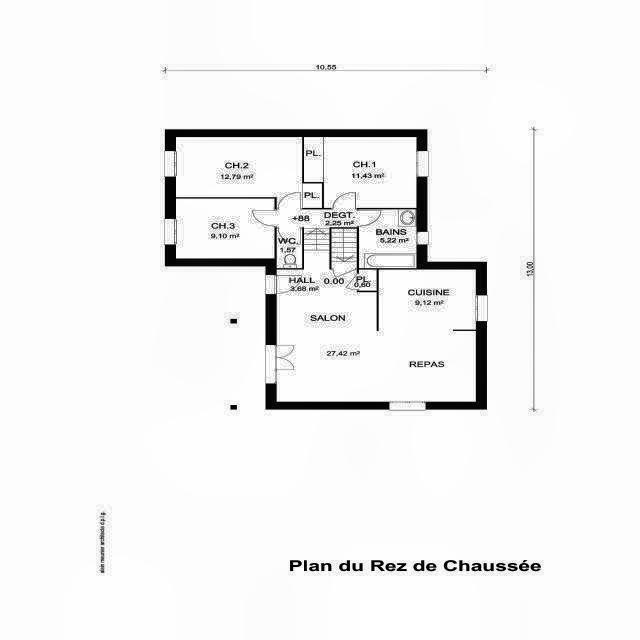room: (277, 209, 476, 402), (176, 137, 322, 208), (304, 137, 416, 208), (176, 199, 275, 258), (359, 209, 416, 268), (277, 227, 302, 268), (331, 229, 357, 268), (359, 269, 377, 291)
